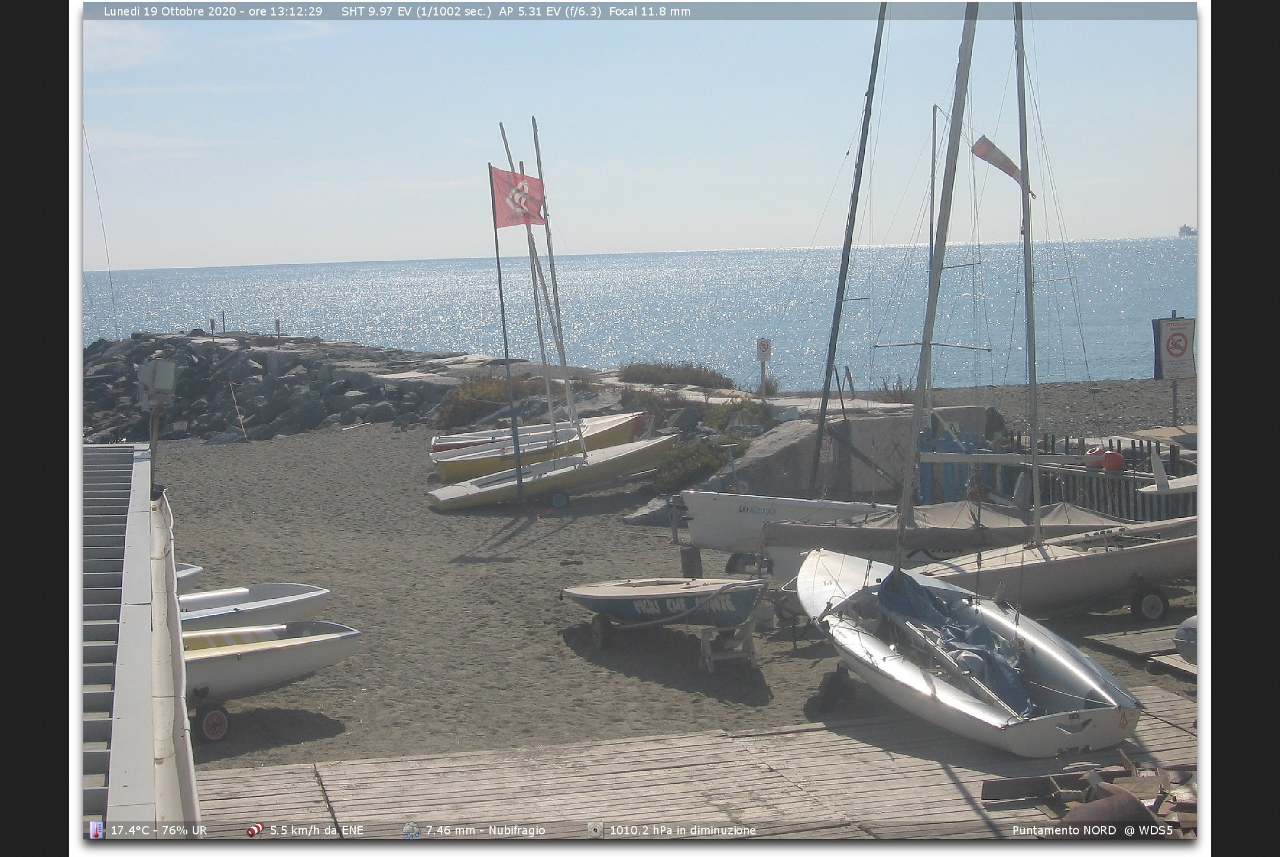yes: (482, 154, 556, 233)
